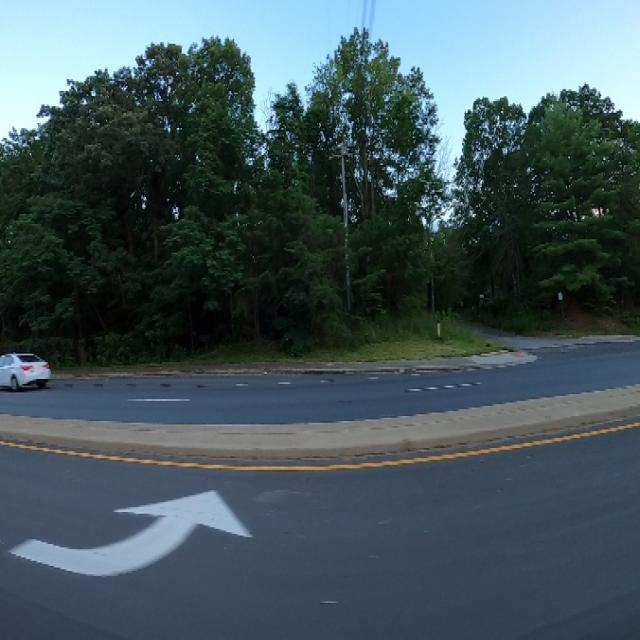cars: (0, 338, 50, 398)
